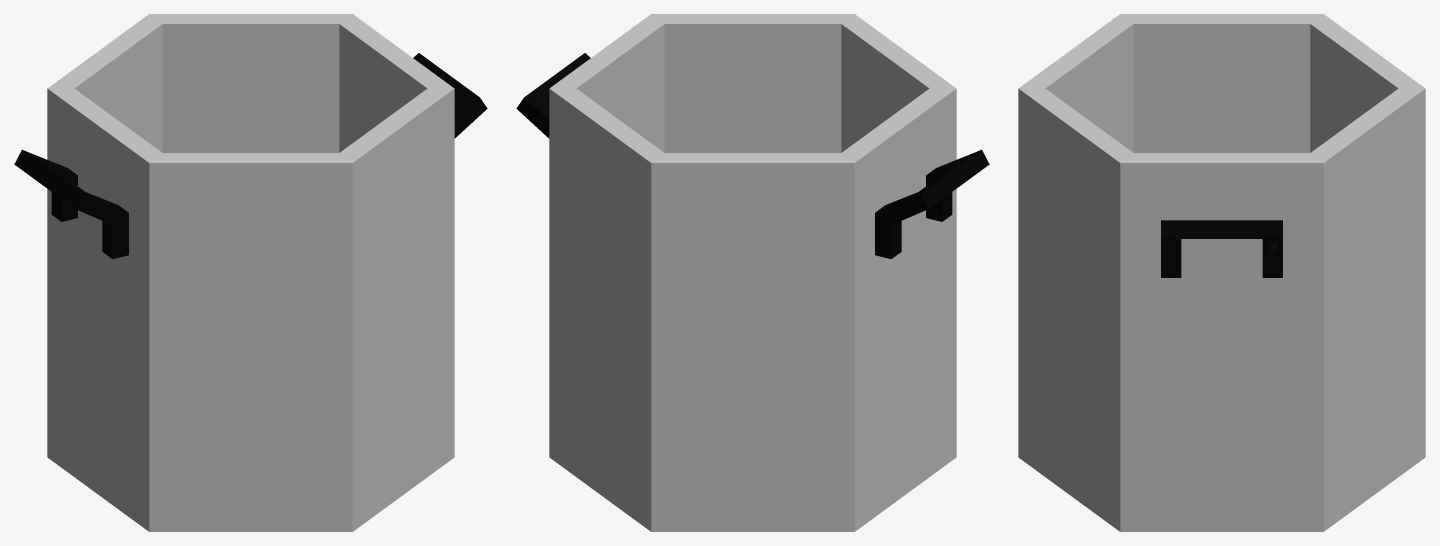
The model's file is pot2_PLY.fbx.
The picture shows the model from 3 angles, left to right: view 1: azimuth 30°, elevation 25°; view 2: azimuth 150°, elevation 25°; view 3: azimuth 270°, elevation 25°; orthographic projection.
Parts seen in each view (by area): view 1: pot2_PLY; view 2: pot2_PLY; view 3: pot2_PLY.
Boxes of the visible parts, <box> form: pot2_PLY: <box>14,14,487,531</box>; pot2_PLY: <box>516,14,989,531</box>; pot2_PLY: <box>1018,14,1425,531</box>.
Size of the model in its own units: 1.64 by 1.4 by 1.4.
